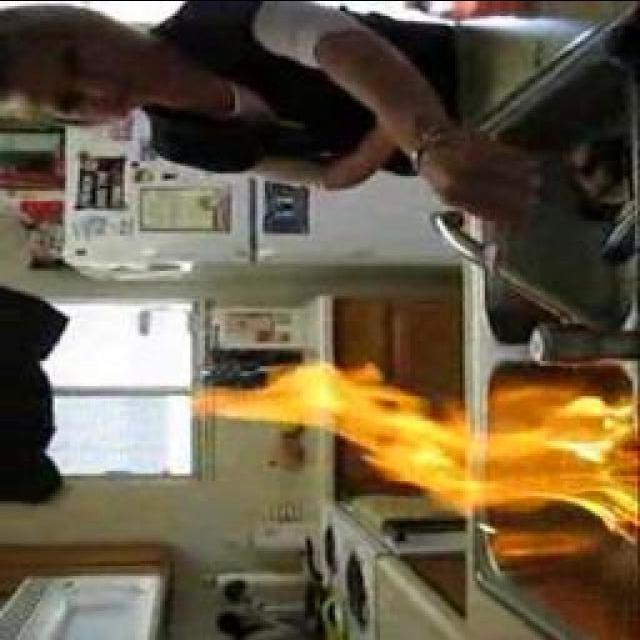Fire: (206, 362, 640, 512)
